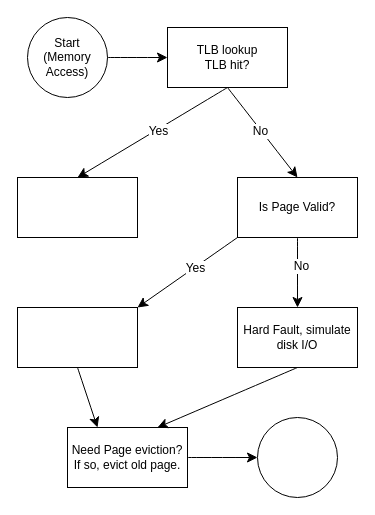
The diagram is 375 pixels wide and 515 high, and some of its shapes have lost their labels. The centre of each missing label's shape, as x and y in pixels:
Continue: (x=77, y=207)
Soft Fault, Page in memory: (x=77, y=337)
Update TLB, Continue: (x=297, y=457)
